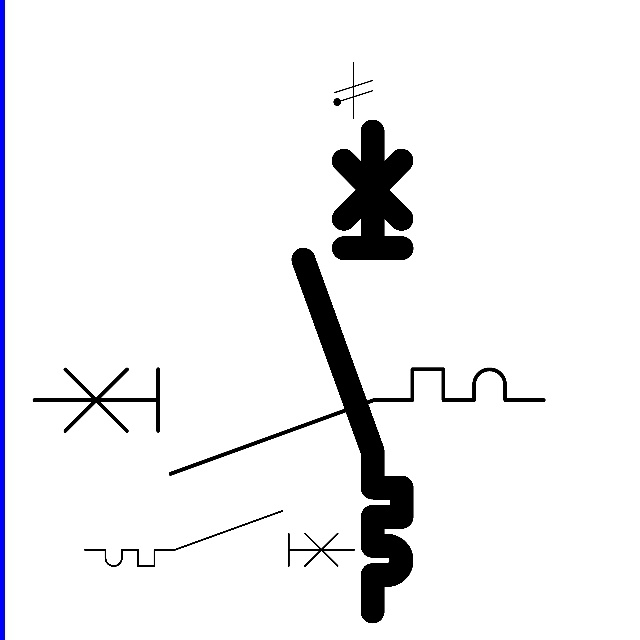interruptor_termomagnetico: (21, 356, 557, 487), (291, 119, 414, 623), (78, 504, 361, 573)
